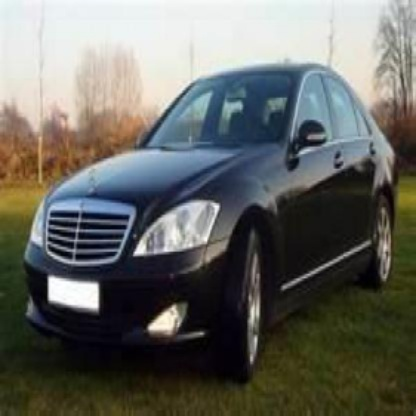Vehicle: (21, 56, 405, 399)
